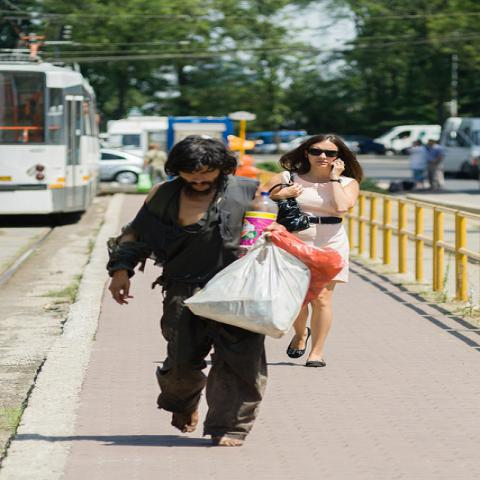bus: (0, 46, 103, 218)
car: (442, 117, 480, 180), (278, 134, 388, 154), (376, 125, 441, 155), (98, 151, 144, 186), (246, 131, 307, 154)
truck: (441, 117, 479, 178), (372, 125, 444, 156)
